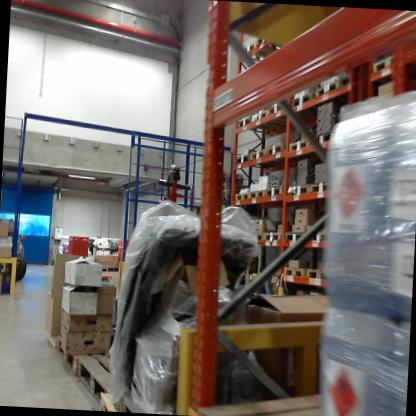pallet: (289, 51, 407, 116), (76, 349, 146, 401), (50, 331, 101, 377), (233, 111, 289, 136), (98, 391, 162, 412), (239, 42, 281, 68), (253, 104, 297, 127), (42, 327, 77, 355), (234, 152, 280, 169), (315, 80, 343, 104), (258, 139, 288, 161), (253, 31, 284, 52), (288, 132, 316, 155), (248, 147, 279, 166), (334, 67, 363, 86), (309, 179, 335, 198), (282, 261, 308, 280), (306, 224, 329, 245), (306, 264, 330, 284), (263, 182, 285, 203), (269, 93, 289, 116), (283, 227, 307, 245), (258, 229, 284, 245), (314, 128, 338, 145), (287, 184, 310, 198), (249, 184, 266, 202), (232, 191, 250, 204)
pallet_truck: (221, 225, 263, 303), (249, 226, 280, 300)
